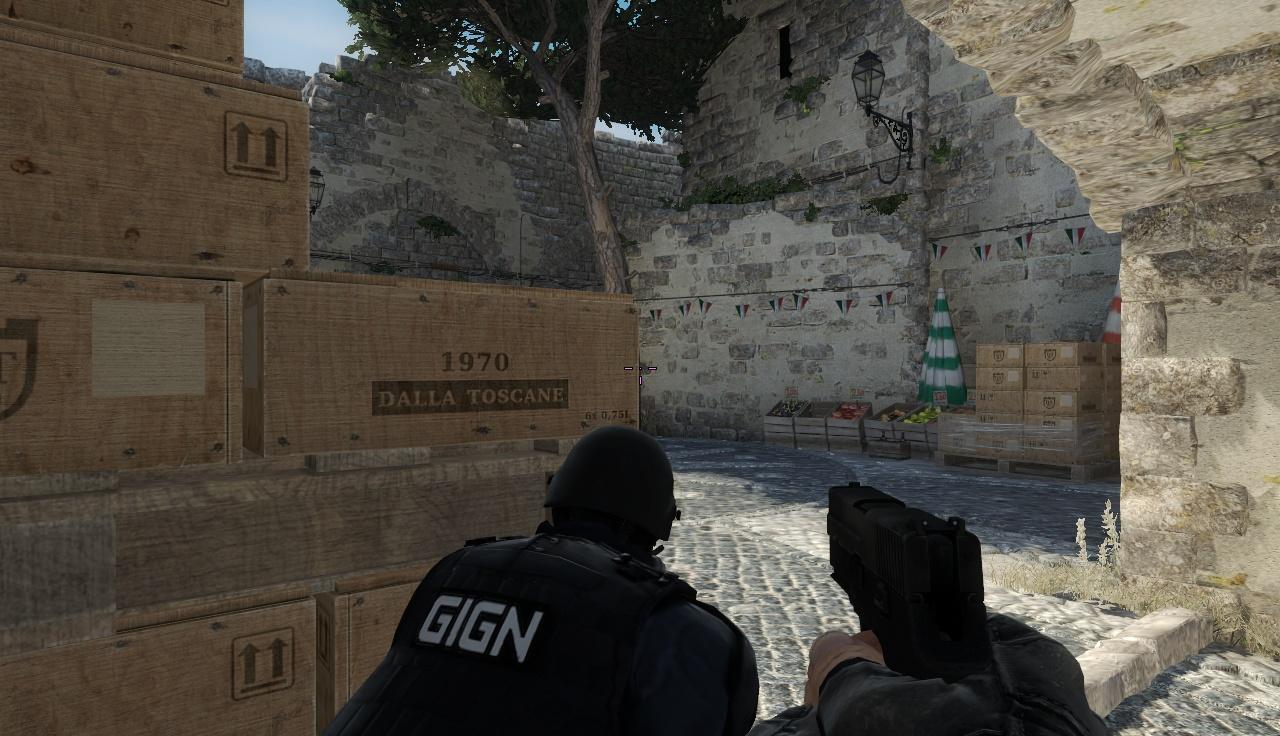ct: (351, 419, 716, 733)
cthead: (547, 426, 675, 570), (548, 427, 676, 567)
pistol: (815, 485, 1014, 736)
